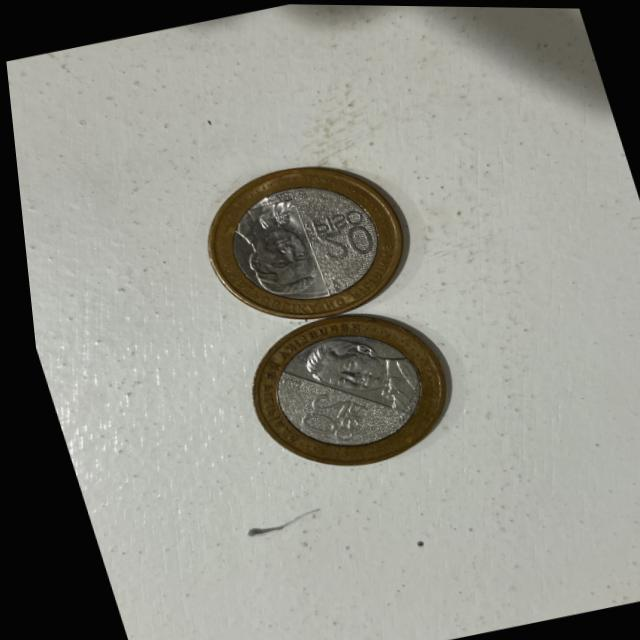20_New_Front: (284, 390, 343, 438), (312, 221, 373, 266)
